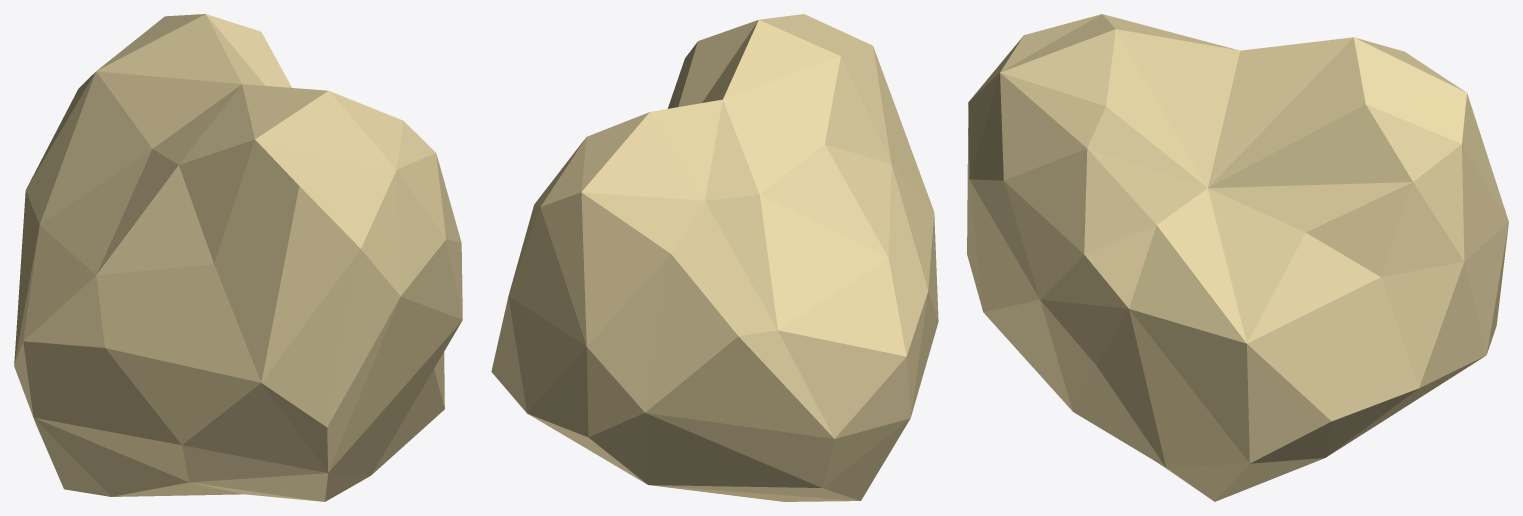
The model's file is Rock (42).fbx.
3 views of the same model, side by side, from view 1: azimuth 30°, elevation 25°; view 2: azimuth 150°, elevation 25°; view 3: azimuth 270°, elevation 25° (orthographic). The views are drawn at different scales.
Parts seen in each view (by area): view 1: Asteroid41; view 2: Asteroid41; view 3: Asteroid41.
Part boxes in pixels (x1=…): Asteroid41: x1=14, y1=14, x2=462, y2=501; Asteroid41: x1=491, y1=14, x2=938, y2=501; Asteroid41: x1=967, y1=14, x2=1508, y2=501.
Size of the model in its own units: 137 by 139 by 159.
